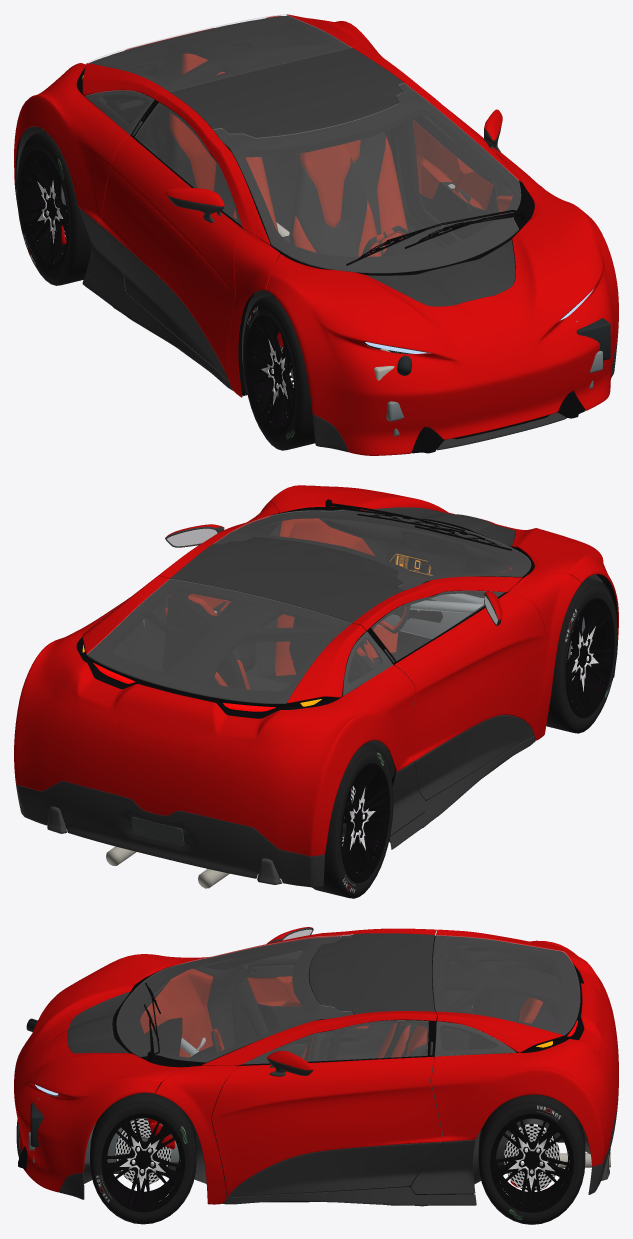
The model's file is hatch.glb.
3 views of the same model, one above another, from view 1: azimuth 30°, elevation 25°; view 2: azimuth 150°, elevation 25°; view 3: azimuth 270°, elevation 25° (orthographic). The views are drawn at different scales.
Parts seen in each view (by area): view 1: glass_BodyWindshield, panel_hood.001, panel_BodyDoorRColor1, panel_BodyRoofPanel, panel_bumper_front, BodyWindshieldGasket, glass_BodyRearwindow, panel_rear_quarter_L, panel_front_fender_L, InteriorSeatsColor1, panel_BodyPillars, InteriorSeatsColor2 (+27 smaller); view 2: panel_rear_quarter_L, glass_BodyRearwindow, panel_rear_quarter_R, panel_BodyPanelsColor2, panel_BodyDoorRColor1, panel_BodyRoofPanel, glass_BodyWindshield, panel_bumper_rear.001, panel_BodyPillars, InteriorRearHatch, InteriorPillar, BodyWindshieldGasket (+28 smaller); view 3: panel_BodyDoorLColor1, glass_BodyWindshield, panel_rear_quarter_R, glass_BodyRearwindow, panel_BodyRoofPanel, panel_hood.001, panel_BodyPillars, panel_BodyDoorLColor2, panel_BodyPanelsColor2, BodyWindshieldGasket, panel_front_fender_R, WheelRearLRim (+30 smaller).
Boxes of the visible parts, x1,y1,x2,y2 form: glass_BodyWindshield: (213,83,520,272); panel_hood.001: (304,209,602,404); panel_BodyDoorRColor1: (98,135,242,381); panel_BodyRoofPanel: (170,48,403,138); panel_bumper_front: (309,316,618,455); BodyWindshieldGasket: (214,84,534,275); glass_BodyRearwindow: (87,14,351,91); panel_rear_quarter_L: (14,37,172,213); panel_front_fender_L: (266,254,378,403); InteriorSeatsColor1: (169,53,408,256); panel_BodyPillars: (154,43,565,397); InteriorSeatsColor2: (170,131,385,256); panel_rear_quarter_L: (154,623,415,818); glass_BodyRearwindow: (87,579,351,703); panel_rear_quarter_R: (14,576,175,784); panel_BodyPanelsColor2: (15,669,615,887); panel_BodyDoorRColor1: (394,592,546,760); panel_BodyRoofPanel: (170,536,402,623); glass_BodyWindshield: (214,510,530,590); panel_bumper_rear.001: (14,735,413,856); panel_BodyPillars: (158,501,581,740); InteriorRearHatch: (87,579,364,709); InteriorPillar: (166,580,400,683); BodyWindshieldGasket: (215,509,534,590); panel_BodyDoorLColor1: (211,1056,443,1197); glass_BodyWindshield: (116,934,353,1062); panel_rear_quarter_R: (431,1000,618,1134); glass_BodyRearwindow: (432,935,579,1035); panel_BodyRoofPanel: (309,933,434,1014); panel_hood.001: (14,968,162,1132); panel_BodyPillars: (155,928,436,1204); panel_BodyDoorLColor2: (228,1142,443,1197); panel_BodyPanelsColor2: (16,1095,618,1206); BodyWindshieldGasket: (112,935,352,1067); panel_front_fender_R: (37,1065,187,1157); WheelRearLRim: (490,1113,573,1212).
Bounding box in the file's own units: 2.11 × 1.32 × 3.83.
Materials: 28 (5 with a texture image).
